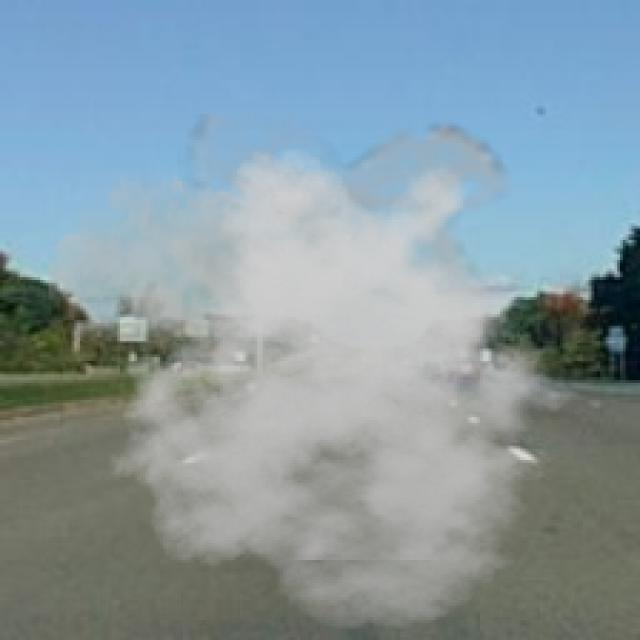smoke: (48, 114, 603, 632)
